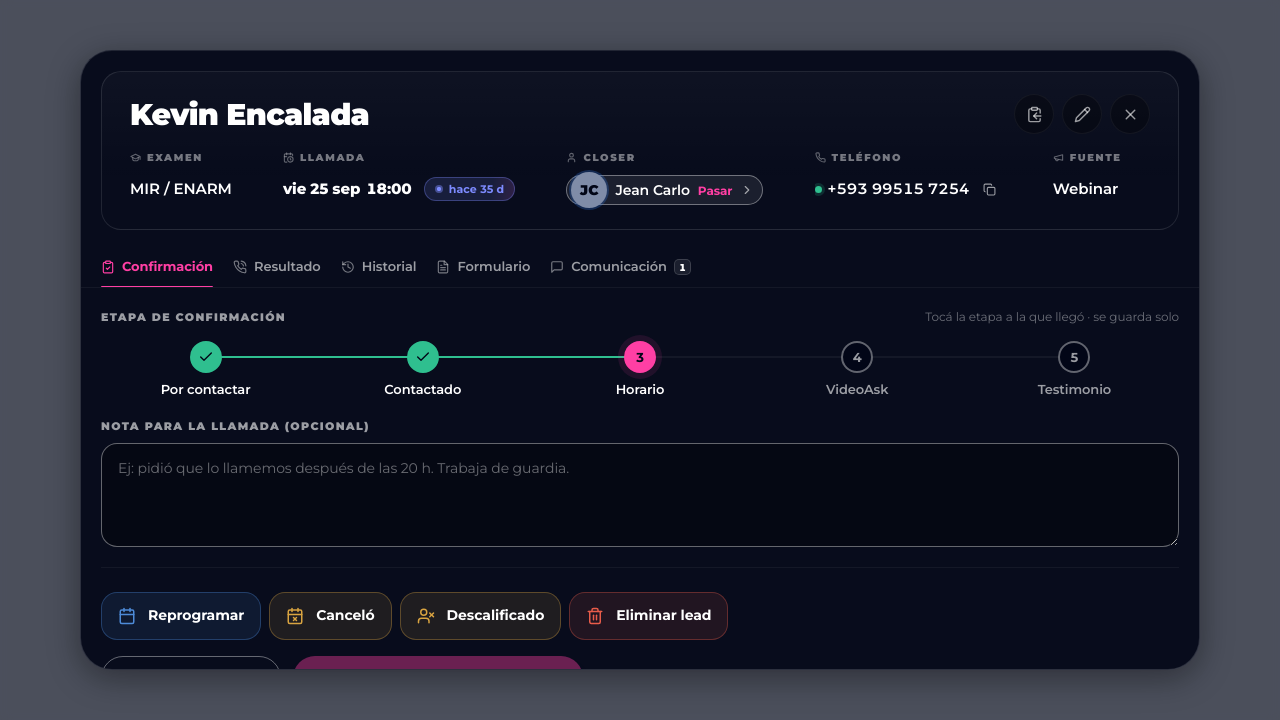
Test: la franja en modo edición › si el backend no guardó nada porque ya estaba así, el aviso no dice que se corrigió
Check: the tab "Confirmación" is shown, box [101,246,213,287]
Click the button named "Editar los datos del lead" at [1082, 114], box [1062,94,1102,134]
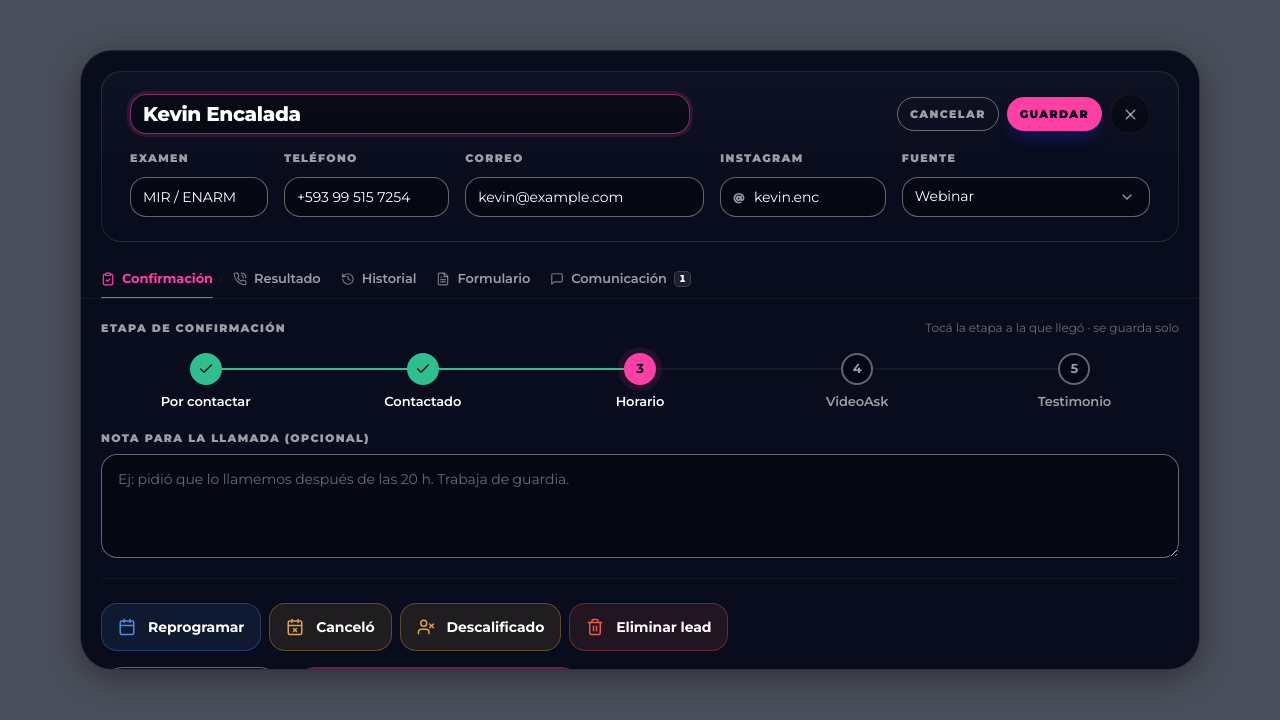
Replace the text in the field labelled "Correo" with "n/a" at [585, 197], box [478,178,691,216]
Then press Enter
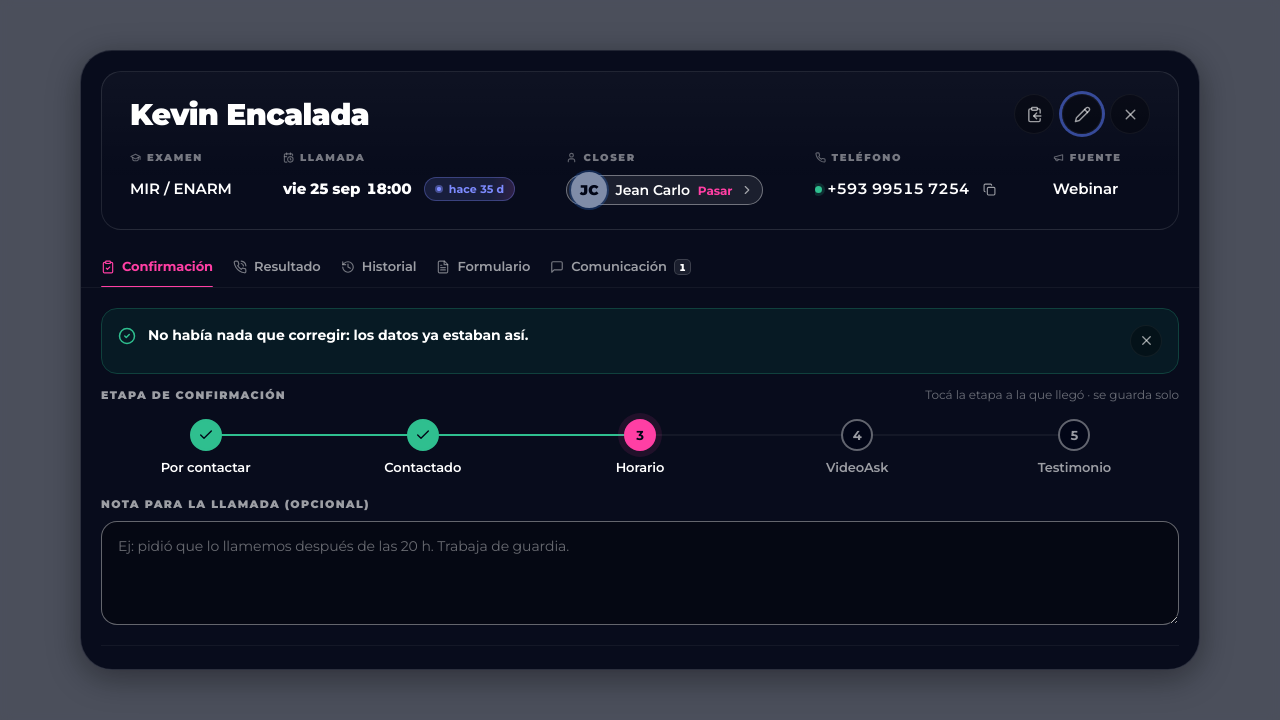
Check: the text "No había nada que corregir: los datos ya estaban así." is shown, box [148,326,528,344]
